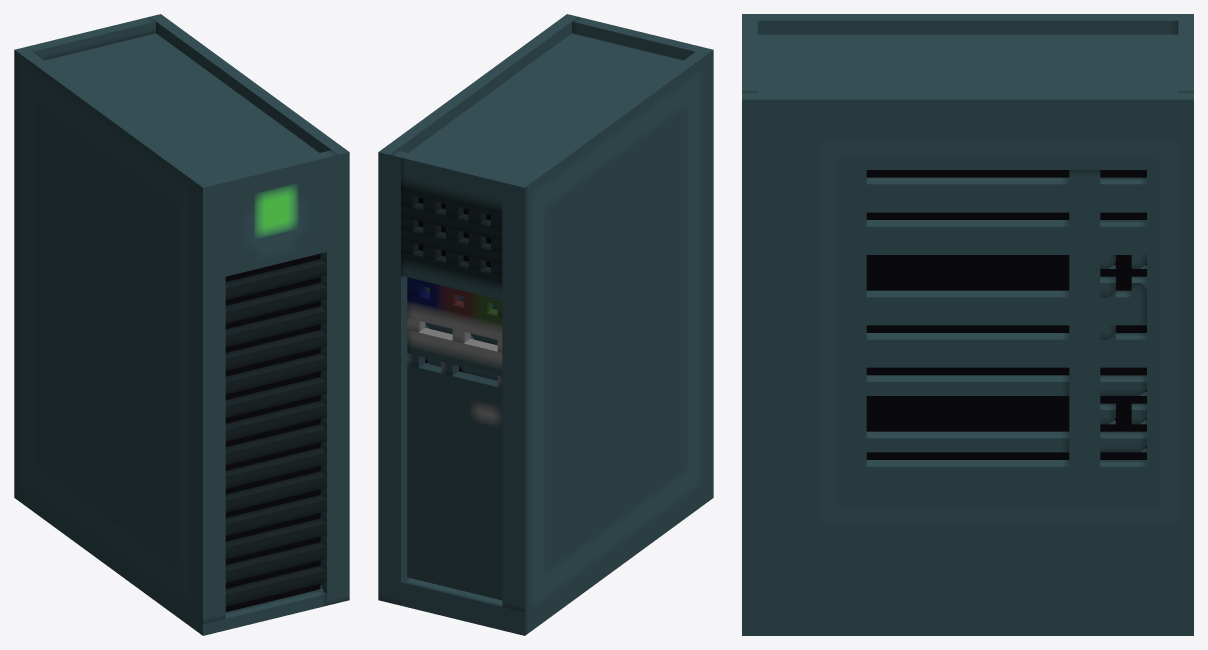
File: KOMP.dae
3 views of the same model, side by side, from view 1: azimuth 30°, elevation 25°; view 2: azimuth 150°, elevation 25°; view 3: azimuth 270°, elevation 25° (orthographic). The views are drawn at different scales.
Parts seen in each view (by area): view 1: Content; view 2: Content; view 3: Content.
Boxes of the visible parts, x1,y1,x2,y2 form: Content: (14,14,349,635); Content: (378,14,713,635); Content: (742,14,1193,635).
Size of the model in its own units: 13 by 38 by 29.
1 material, 1 textured.
